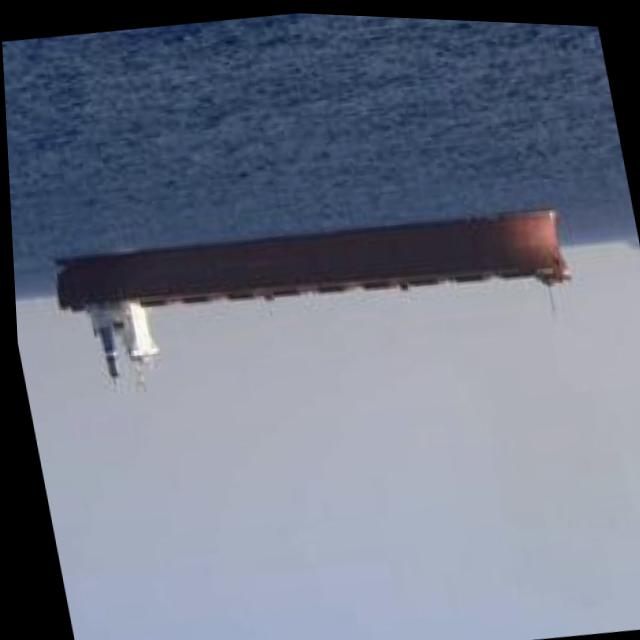ship2: (51, 202, 569, 390)
